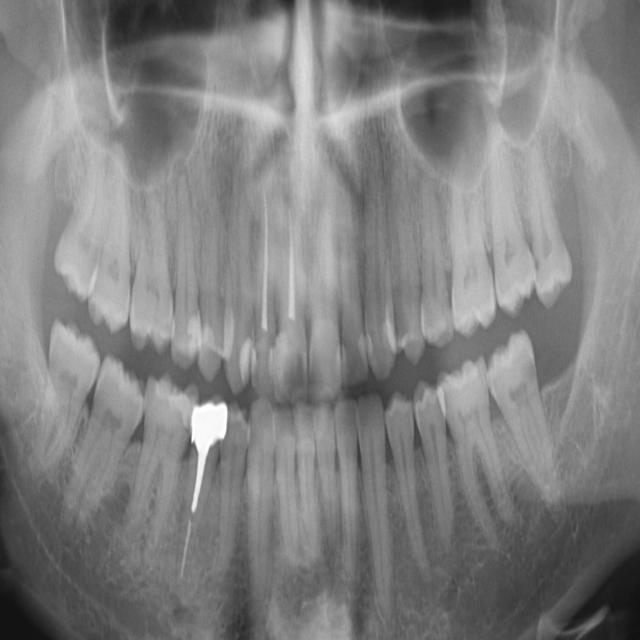infected-teeth: (170, 396, 230, 590), (271, 188, 309, 405), (252, 164, 277, 404)
